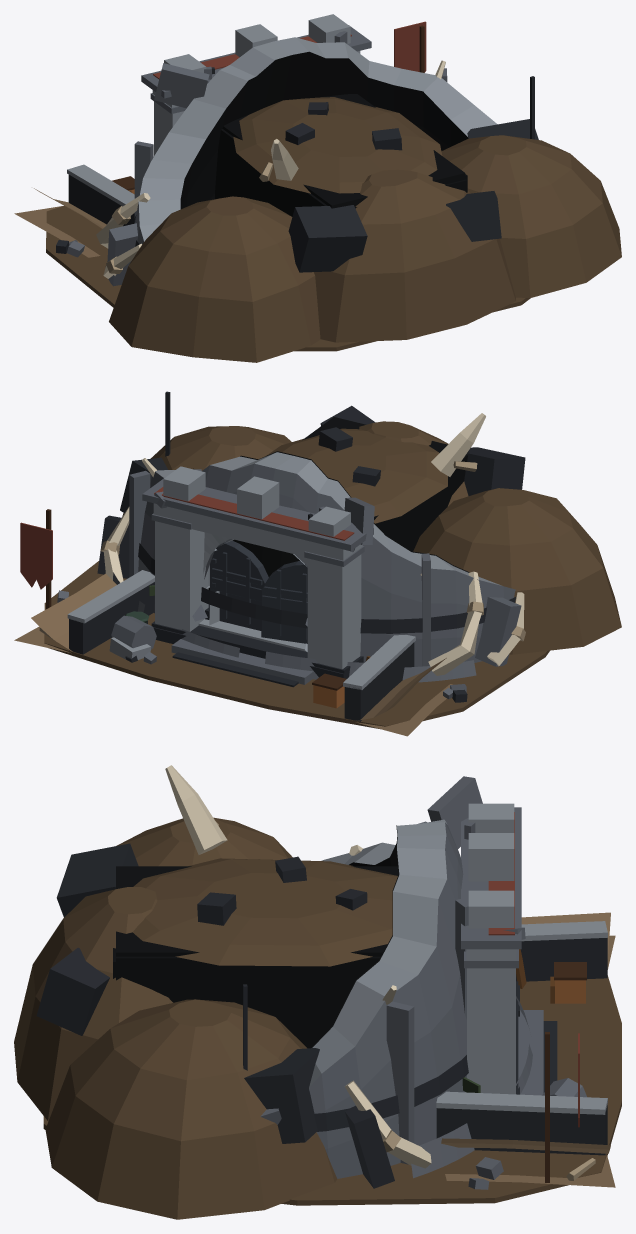
File: 折壳入口_手游_中.glb
The picture shows the model from 3 angles, top to bottom: view 1: azimuth 30°, elevation 25°; view 2: azimuth 150°, elevation 25°; view 3: azimuth 270°, elevation 25°; orthographic projection. The views are drawn at different scales.
Parts seen in each view (by area): view 1: FS-主体, FS-team; view 2: FS-主体, FS-team; view 3: FS-主体, FS-team.
Part boxes in pixels (<box>): FS-主体: <box>14,14,621,362</box>; FS-team: <box>153,21,426,79</box>; FS-主体: <box>14,391,621,736</box>; FS-team: <box>20,487,354,589</box>; FS-主体: <box>14,765,621,1219</box>; FS-team: <box>488,812,579,1127</box>.
Bounding box in the file's own units: 12.99 × 4.57 × 10.62.
2 materials, 1 textured.
